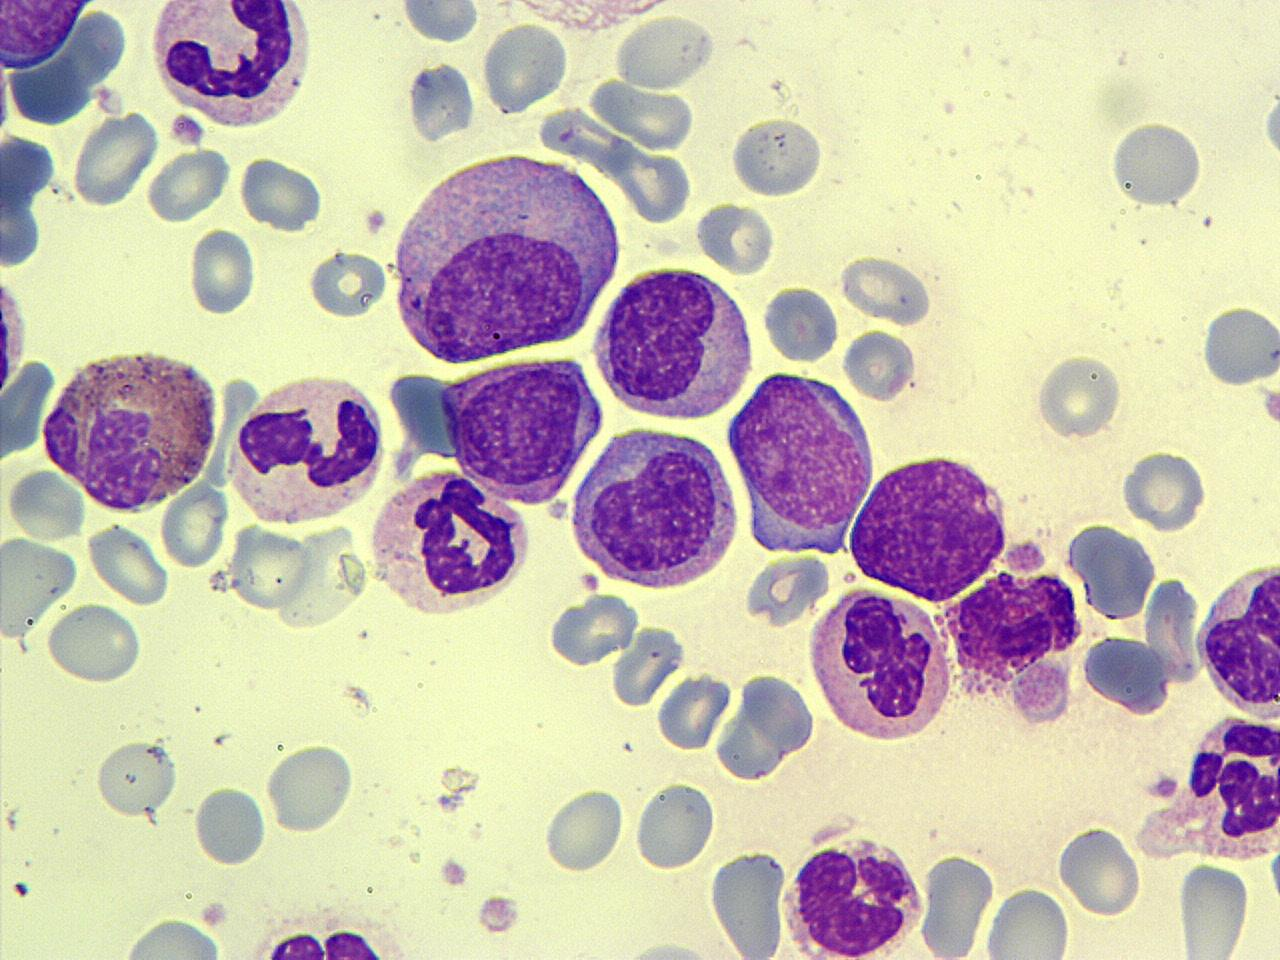Platelets: (403, 58, 478, 146), (1260, 83, 1280, 169), (363, 204, 388, 237), (1267, 844, 1280, 906)
RBC: (442, 349, 600, 505), (276, 521, 369, 634), (1106, 116, 1206, 211), (708, 846, 788, 960), (70, 108, 158, 211), (264, 740, 358, 836), (45, 599, 145, 688), (0, 532, 78, 644), (479, 20, 570, 116), (610, 12, 718, 92), (1054, 822, 1142, 920), (726, 111, 824, 198), (1033, 352, 1125, 442), (1078, 629, 1174, 715), (632, 777, 718, 873), (1173, 858, 1255, 958), (919, 851, 994, 960), (1119, 446, 1209, 534), (227, 524, 314, 614), (84, 519, 173, 606), (834, 252, 936, 327), (542, 784, 624, 876), (144, 144, 234, 225), (982, 882, 1073, 960), (547, 590, 635, 670), (1199, 300, 1279, 388), (92, 738, 179, 818), (187, 222, 259, 318), (192, 780, 268, 870), (761, 281, 841, 366), (693, 197, 779, 276), (655, 668, 733, 754), (239, 155, 324, 233), (611, 622, 687, 709), (159, 480, 231, 570), (402, 58, 475, 145), (4, 466, 85, 543), (840, 324, 918, 402), (306, 249, 388, 321), (110, 913, 230, 959), (396, 0, 482, 45)
WBC: (387, 143, 623, 368), (37, 341, 223, 516), (564, 421, 744, 595), (722, 366, 880, 556), (942, 539, 1090, 734), (591, 259, 757, 424), (224, 369, 389, 530), (368, 466, 536, 624), (844, 447, 1012, 604), (1124, 706, 1280, 868), (439, 350, 601, 505), (806, 586, 956, 746), (146, 0, 317, 135), (780, 825, 930, 960), (1, 0, 136, 131), (1191, 551, 1280, 723), (224, 917, 425, 959), (1081, 626, 1171, 718), (0, 0, 98, 74), (3, 349, 58, 467), (405, 55, 477, 145), (2, 126, 59, 228), (2, 256, 30, 417)
